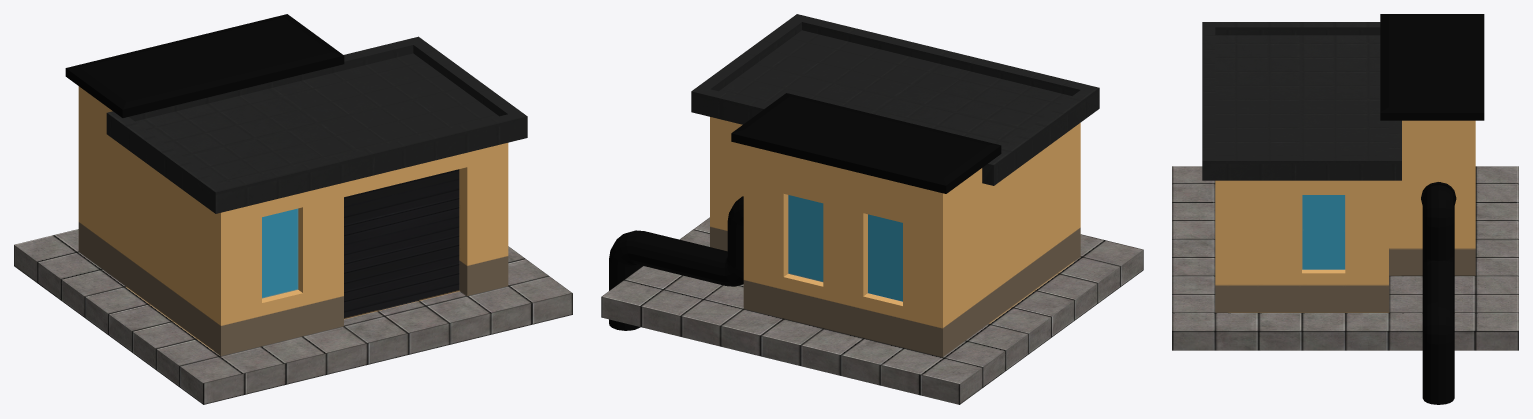
File: mesin filter air.fbx
The picture shows the model from 3 angles, left to right: view 1: azimuth 30°, elevation 25°; view 2: azimuth 150°, elevation 25°; view 3: azimuth 270°, elevation 25°; orthographic projection. The views are drawn at different scales.
Parts seen in each view (by area): view 1: fix.003; view 2: fix.003; view 3: fix.003.
Boxes of the visible parts, <box> form: fix.003: <box>14,14,572,404</box>; fix.003: <box>601,14,1143,404</box>; fix.003: <box>1172,14,1518,404</box>.
Bounding box in the file's own units: 982 × 800 × 580.
1 material, 1 textured.
